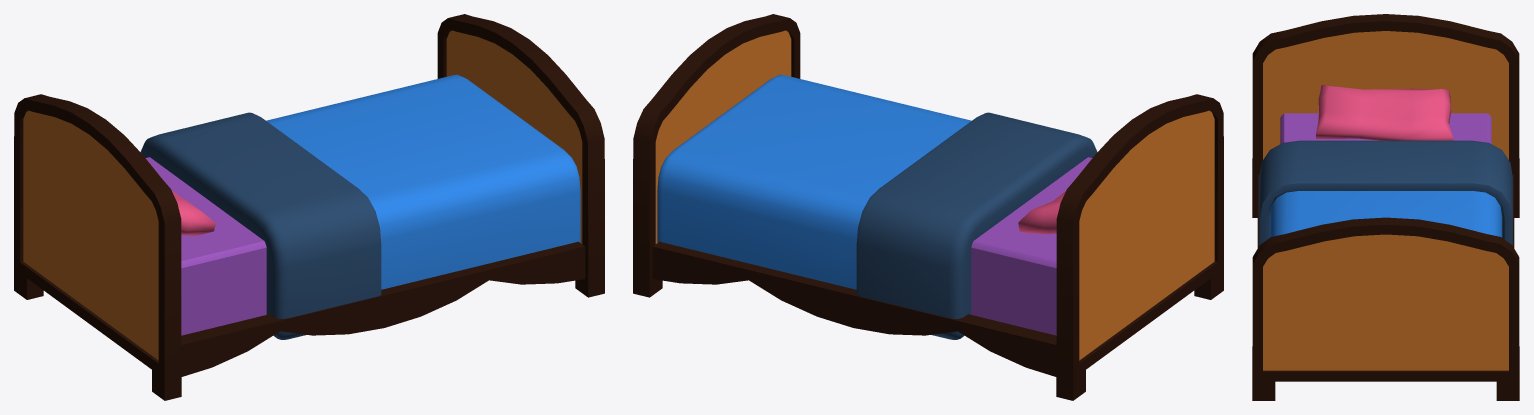
Rendered from SM_Lit_3.fbx.
3 renders of one model, left to right at view 1: azimuth 30°, elevation 25°; view 2: azimuth 150°, elevation 25°; view 3: azimuth 270°, elevation 25°, orthographic. The views are drawn at different scales.
Parts seen in each view (by area): view 1: SM_Lit_3; view 2: SM_Lit_3; view 3: SM_Lit_3.
Boxes of the visible parts, x1,y1,x2,y2 form: SM_Lit_3: [14, 14, 604, 400]; SM_Lit_3: [633, 14, 1223, 400]; SM_Lit_3: [1252, 14, 1519, 400].
Size of the model in its own units: 2.11 by 1.02 by 1.25.
